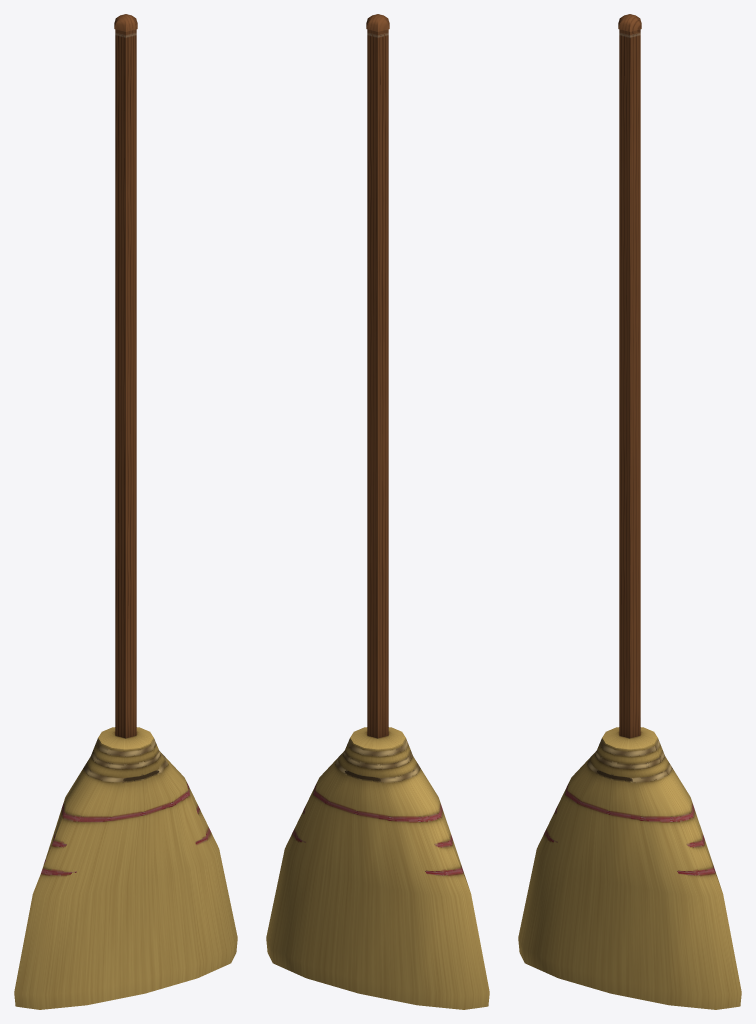
File: Broom_01.glb
3 renders of one model, left to right at view 1: azimuth 30°, elevation 25°; view 2: azimuth 150°, elevation 25°; view 3: azimuth 330°, elevation 25°, orthographic.
Visible parts, largest first — view 1: Broom_01; view 2: Broom_01; view 3: Broom_01.
Boxes of the visible parts, x1,y1,x2,y2 form: Broom_01: [14, 14, 237, 1009]; Broom_01: [266, 14, 489, 1009]; Broom_01: [518, 14, 741, 1009].
Bounding box in the file's own units: 0.324 × 1.34 × 0.0986.
Materials: 1 (1 with a texture image).
